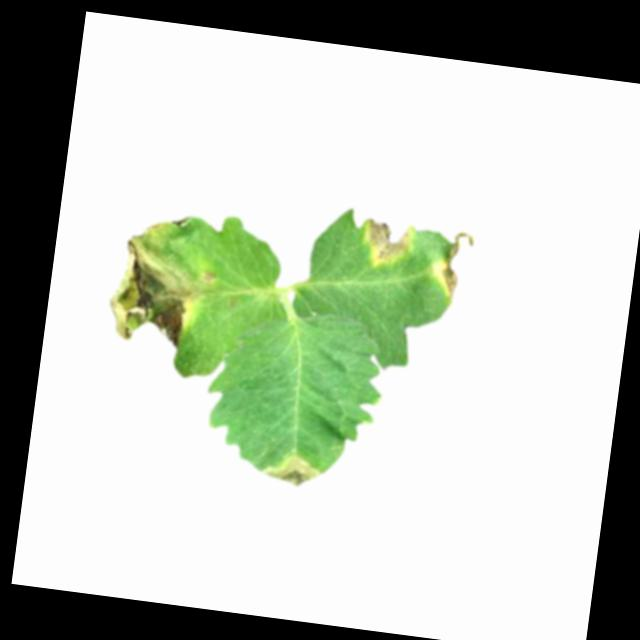Late_blight: (101, 206, 214, 354), (428, 228, 475, 303), (357, 216, 414, 273), (263, 453, 322, 491)
